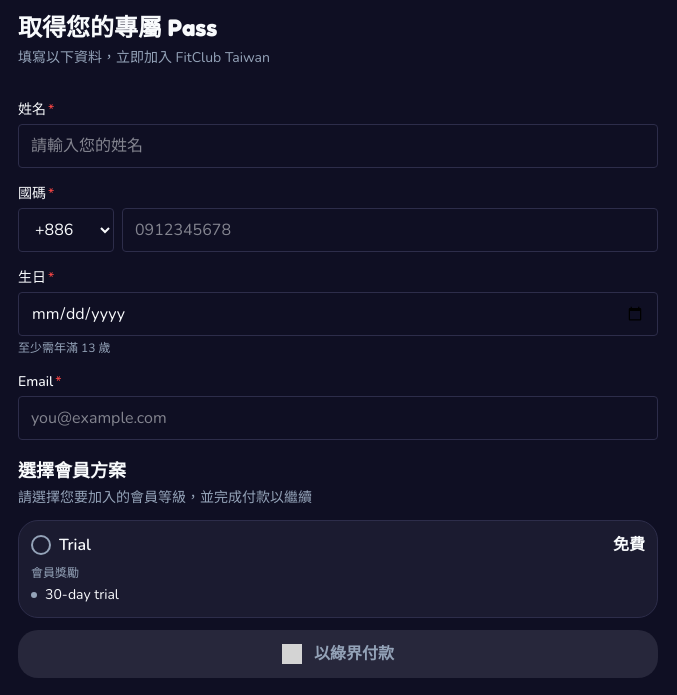
Test: PassHolderRegistration › paid template e2e: free tier under paid template shows "免費領取 Pass"
Expected: the button with test id "pass-holder-payment-button" reads "以綠界付款", [18,630,658,678]
Click the radio button with test id "pass-holder-tier-row": (75, 545) [18,520,658,618]
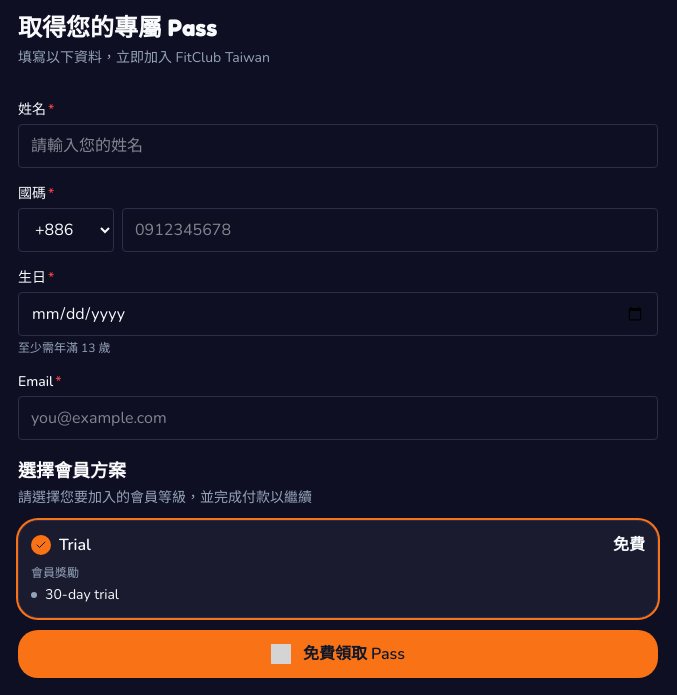
Expected: the button with test id "pass-holder-payment-button" reads "免費領取 Pass", [18,630,658,678]
